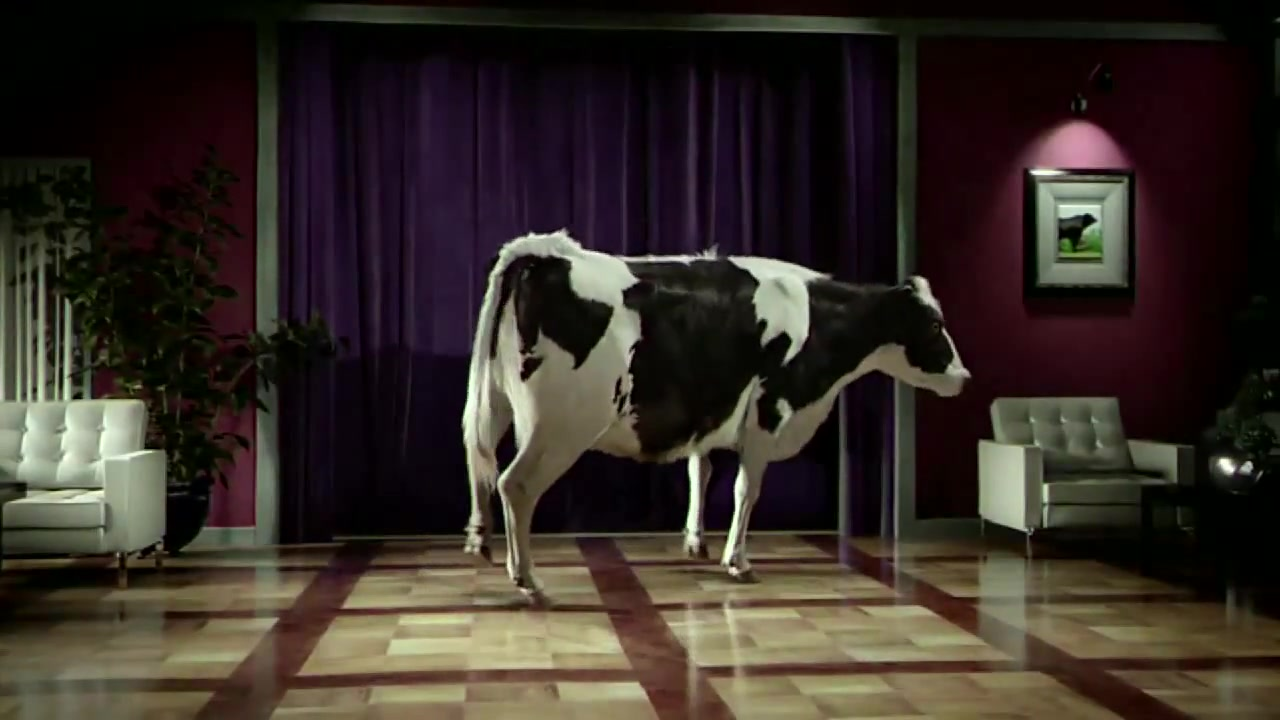cow: (460, 230, 975, 609)
